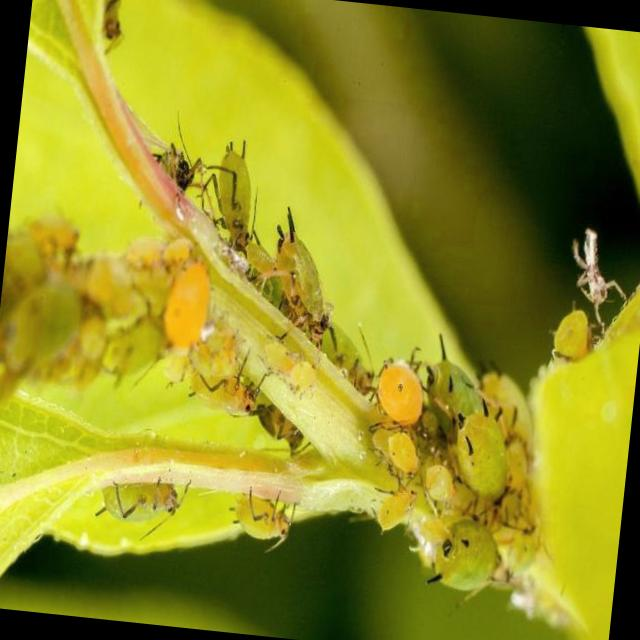aphid: (255, 198, 359, 366), (262, 207, 361, 373), (409, 508, 519, 618), (198, 114, 274, 272), (81, 462, 199, 556), (190, 118, 264, 261), (446, 403, 528, 513), (227, 482, 302, 556)
